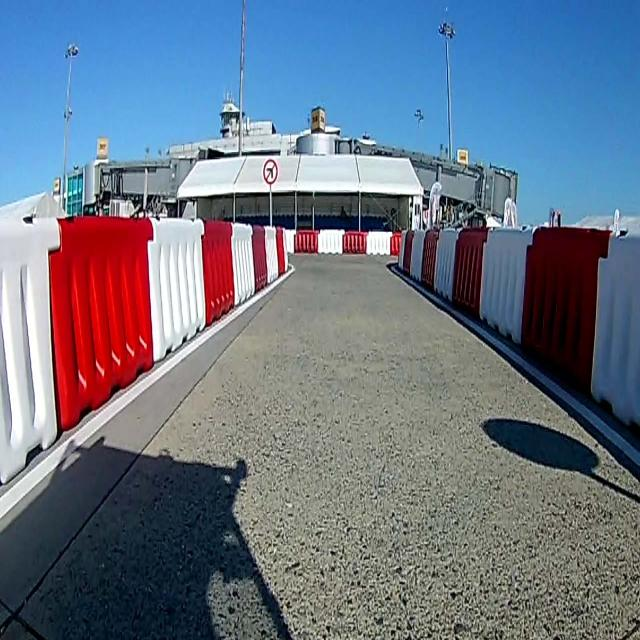soladonulmez: (261, 156, 279, 186)
